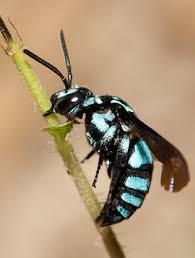Thyreus: (36, 22, 190, 229)
